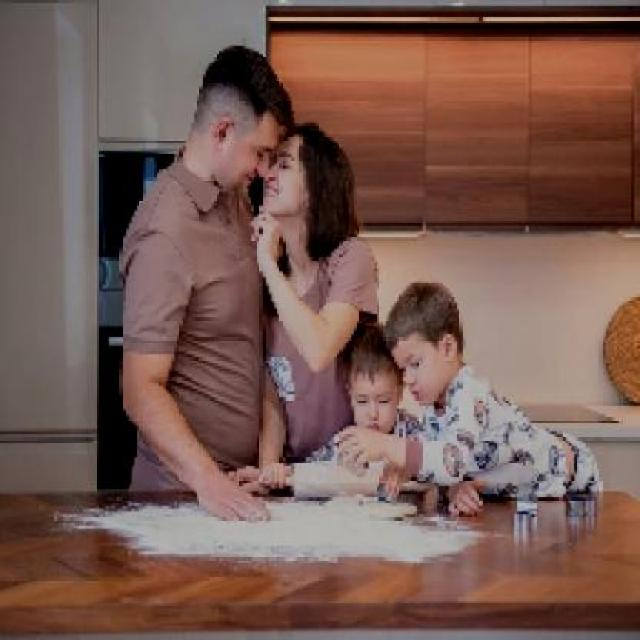adult: (119, 45, 293, 518), (226, 122, 378, 490)
child: (332, 280, 608, 517), (303, 323, 423, 460)
